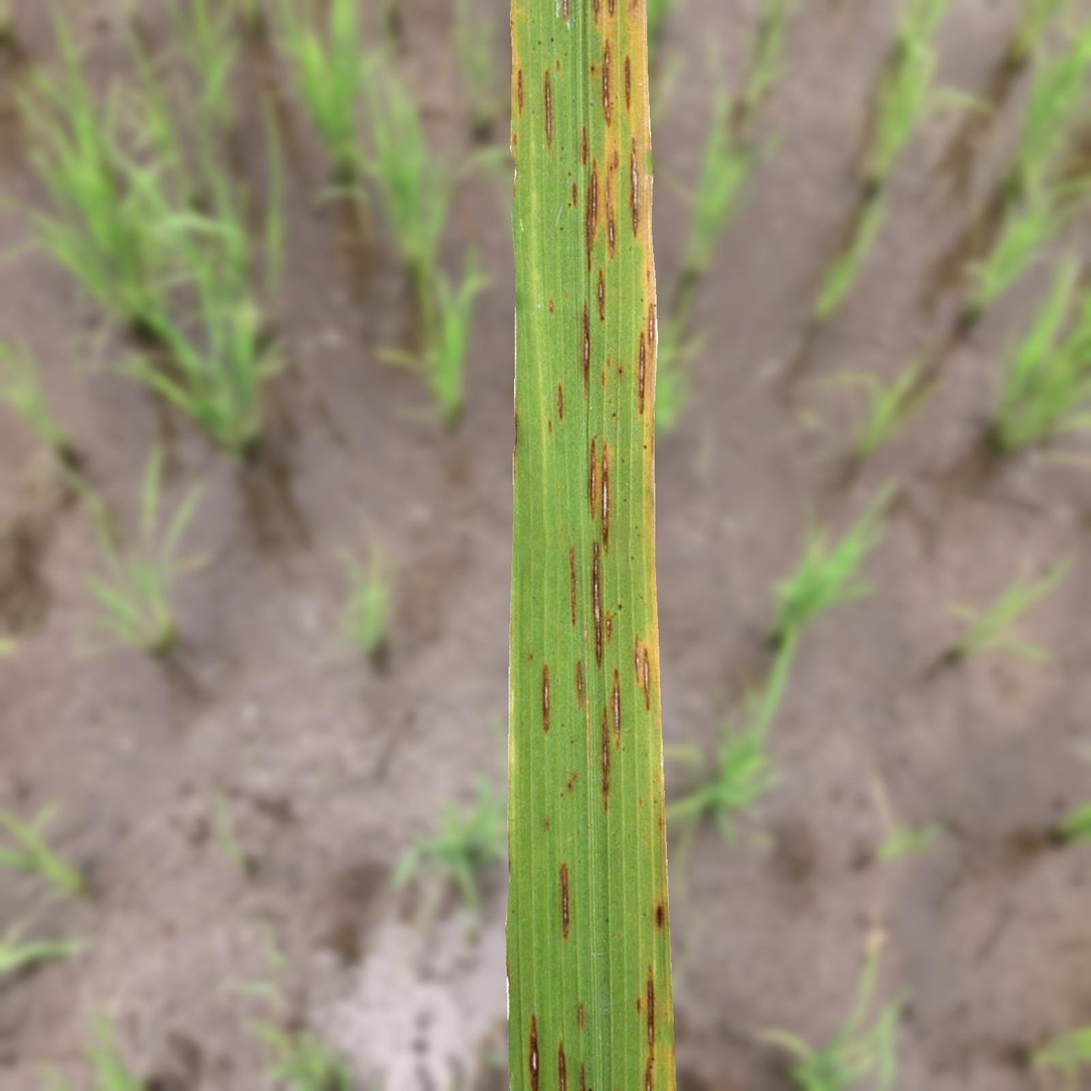LEAF: (505, 0, 676, 1090)
NBS: (623, 0, 657, 566), (589, 0, 619, 262), (634, 565, 661, 741), (511, 0, 524, 119), (585, 164, 597, 269), (645, 966, 654, 1090), (593, 541, 601, 666), (602, 707, 610, 809), (528, 1013, 538, 1090), (588, 438, 597, 519), (638, 332, 646, 414), (582, 303, 589, 395), (602, 445, 608, 551), (561, 863, 569, 939), (545, 70, 552, 149), (569, 547, 576, 625), (613, 672, 619, 746), (543, 663, 549, 731), (576, 660, 584, 708), (558, 1043, 565, 1090), (598, 269, 604, 320), (511, 129, 519, 164), (557, 384, 563, 419), (656, 903, 664, 927), (582, 125, 587, 163), (606, 612, 612, 642), (580, 1062, 586, 1090), (578, 1002, 584, 1029), (635, 995, 643, 1014), (616, 366, 627, 378), (562, 0, 568, 20), (572, 184, 577, 206), (600, 369, 605, 387), (548, 418, 552, 434), (548, 300, 553, 312), (606, 357, 610, 369)
